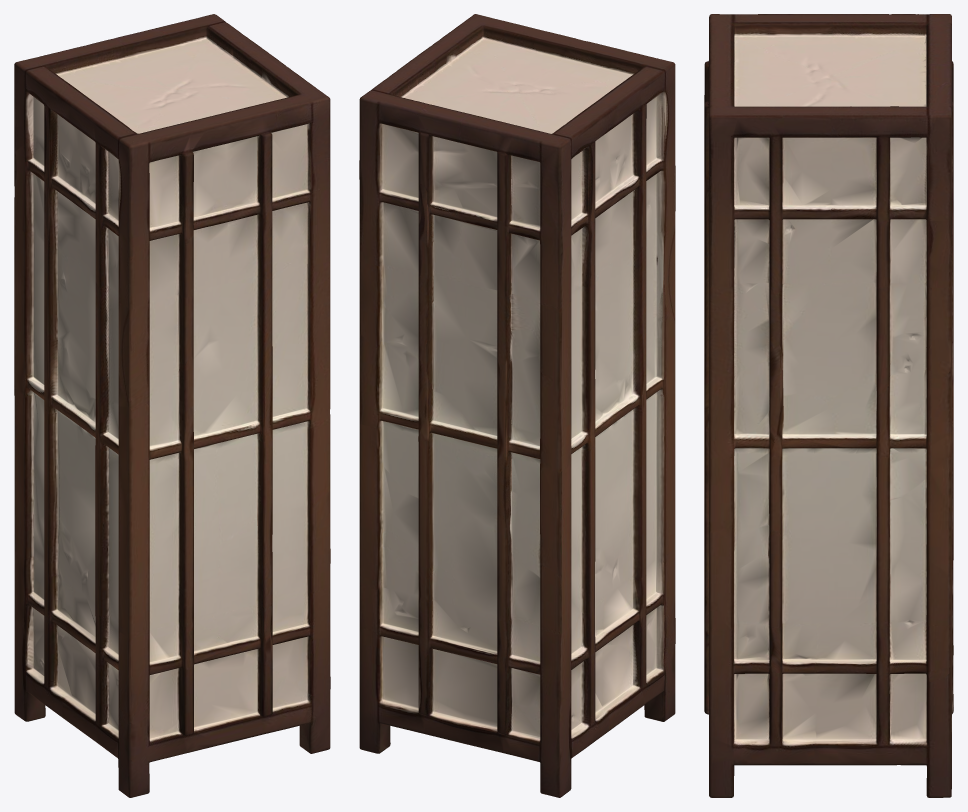
Rendered from JP_사물_s2_deco_shoji_lamp_old.glb.
3 views of the same model, side by side, from view 1: azimuth 30°, elevation 25°; view 2: azimuth 150°, elevation 25°; view 3: azimuth 270°, elevation 25° (orthographic). The views are drawn at different scales.
Visible parts, largest first — view 1: tripo_node_5f1ed653-ca85-43b0-b44e-37a1d28aa169; view 2: tripo_node_5f1ed653-ca85-43b0-b44e-37a1d28aa169; view 3: tripo_node_5f1ed653-ca85-43b0-b44e-37a1d28aa169.
Boxes of the visible parts, box(x1,y1,x2,y2) form: tripo_node_5f1ed653-ca85-43b0-b44e-37a1d28aa169: box(14, 14, 330, 797); tripo_node_5f1ed653-ca85-43b0-b44e-37a1d28aa169: box(359, 14, 675, 797); tripo_node_5f1ed653-ca85-43b0-b44e-37a1d28aa169: box(704, 14, 953, 797).
Size of the model in its own units: 0.3238 by 0.9999 by 0.3309.
1 material, 1 textured.
